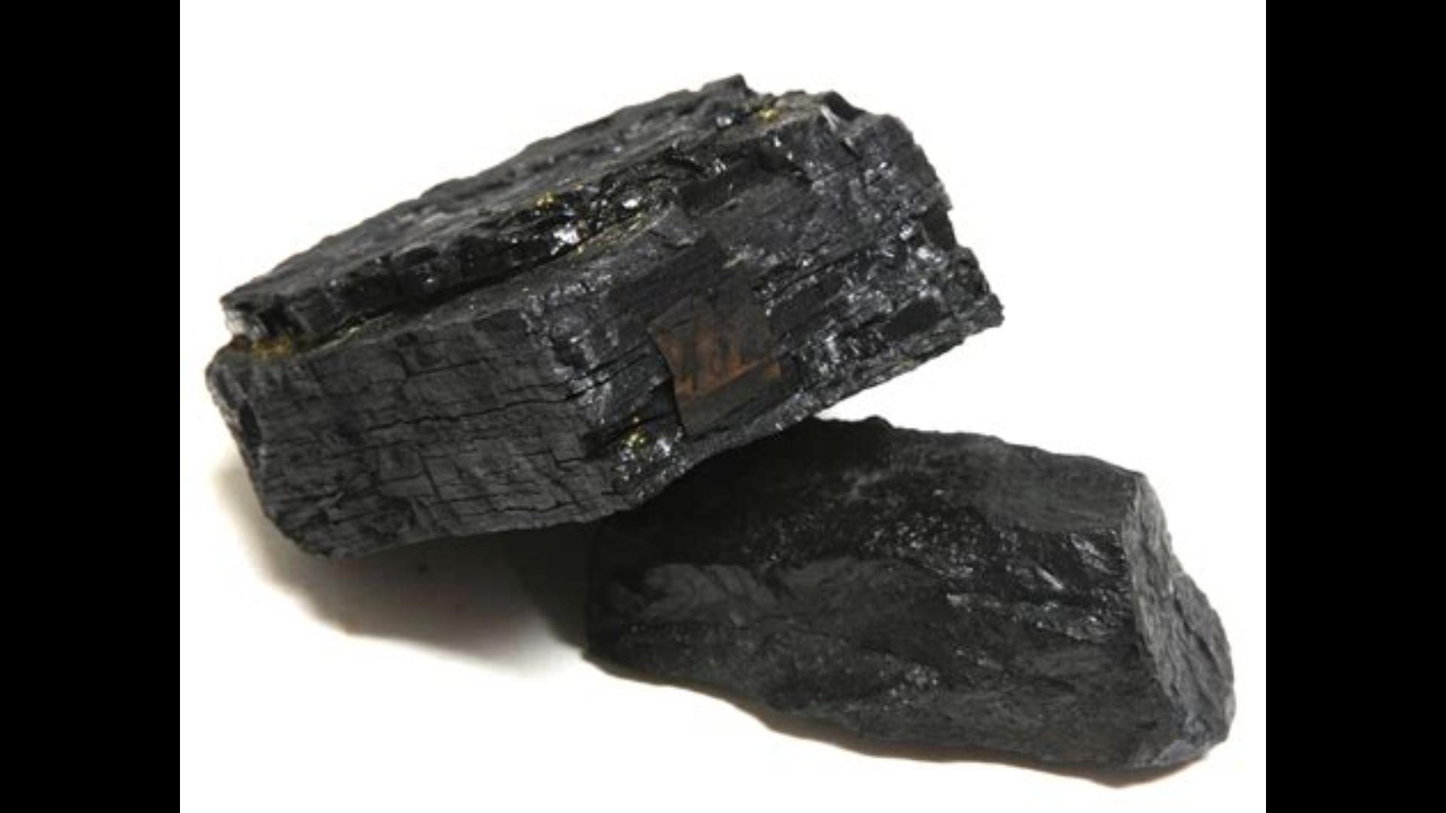rock: (207, 78, 998, 554), (586, 419, 1232, 767)
